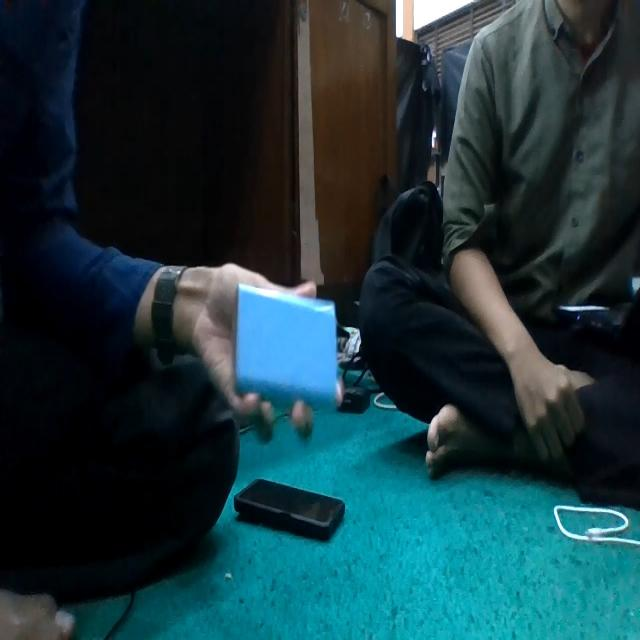Powerbank: (234, 284, 338, 408)
